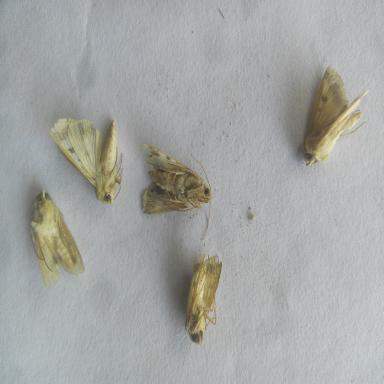abw: (300, 57, 372, 174), (138, 139, 216, 243), (48, 107, 126, 209), (22, 186, 88, 292), (181, 247, 225, 350)
